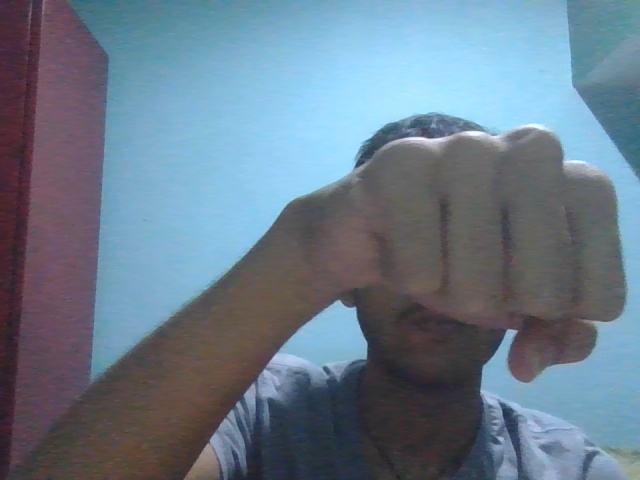yes: (303, 121, 639, 404)
